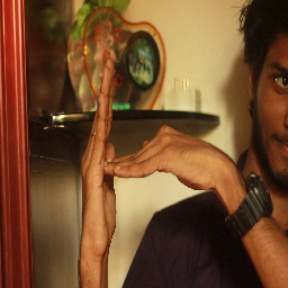Z: (73, 56, 225, 253)
